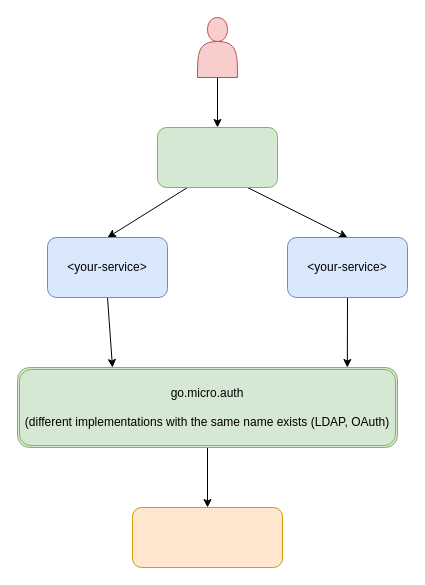
Image size: 425x585. Some labels were removed from this diagram. Each missing label, with the centre of its shape:
go.micro.router: point (217, 157)
SQL / Ldap / KeyCloak: point (207, 537)
